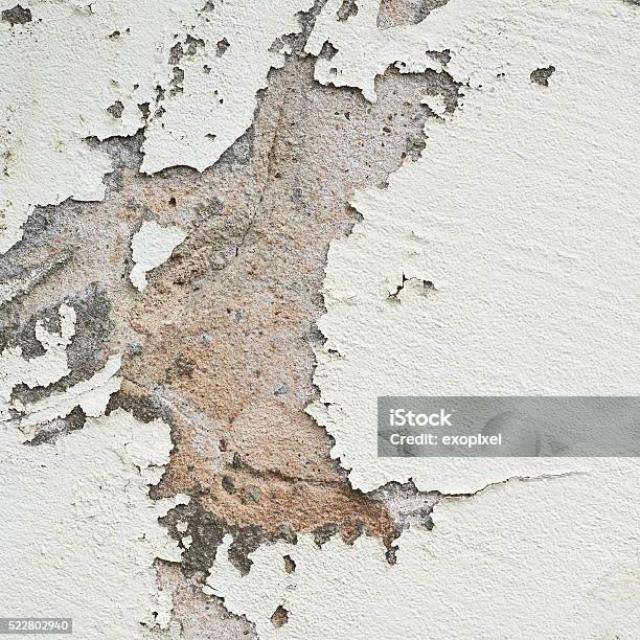Paint peeling: (5, 12, 463, 626)
